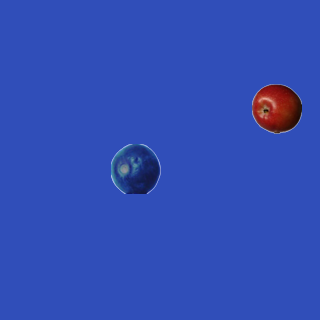Apple Braeburn: (251, 83, 301, 133)
Huckleberry: (110, 143, 160, 193)
